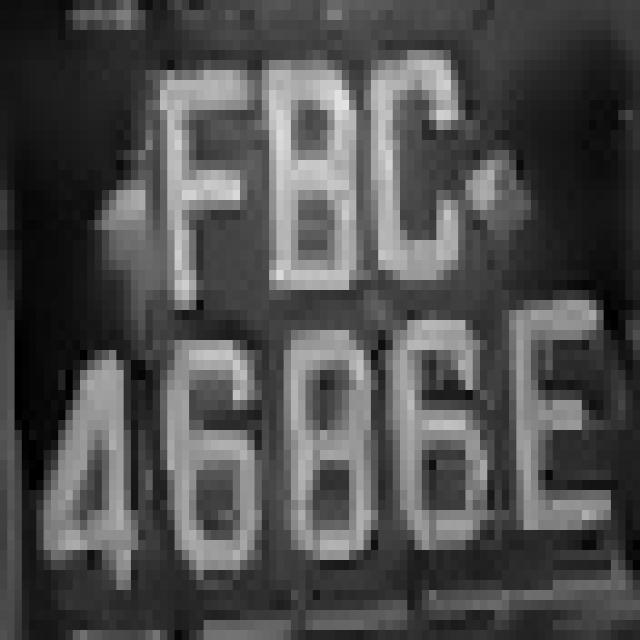4: (22, 320, 145, 610)
6: (371, 280, 494, 570), (153, 310, 262, 580)
8: (262, 330, 393, 610)
B: (247, 50, 378, 350)
C: (342, 30, 473, 320)
E: (494, 270, 611, 560)
F: (138, 30, 255, 310)
